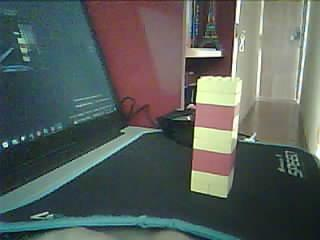lego: (190, 76, 242, 197)
